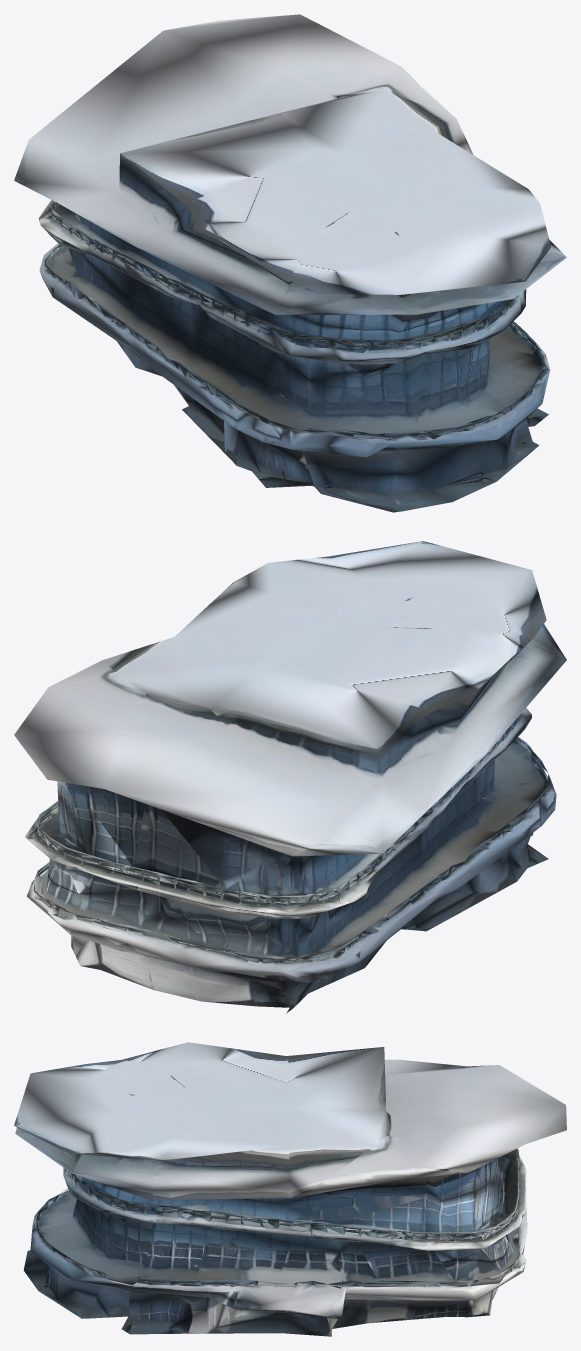
Rendered from haus_asien.glb.
3 renders of one model, top to bottom at view 1: azimuth 30°, elevation 25°; view 2: azimuth 150°, elevation 25°; view 3: azimuth 270°, elevation 25°, orthographic. The views are drawn at different scales.
Parts seen in each view (by area): view 1: tripo_node_ac61ecad-fc1c-4ccf-b482-01a45ee2c700; view 2: tripo_node_ac61ecad-fc1c-4ccf-b482-01a45ee2c700; view 3: tripo_node_ac61ecad-fc1c-4ccf-b482-01a45ee2c700.
Part boxes in pixels (<box>): tripo_node_ac61ecad-fc1c-4ccf-b482-01a45ee2c700: <box>14,14,566,512</box>; tripo_node_ac61ecad-fc1c-4ccf-b482-01a45ee2c700: <box>14,541,566,1013</box>; tripo_node_ac61ecad-fc1c-4ccf-b482-01a45ee2c700: <box>14,1042,566,1336</box>.
Size of the model in its own units: 0.6553 by 0.3686 by 0.9767.
Materials: 1 (1 with a texture image).
